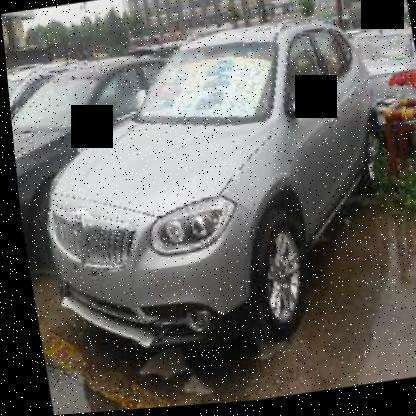not_emergency: (12, 17, 411, 379)
